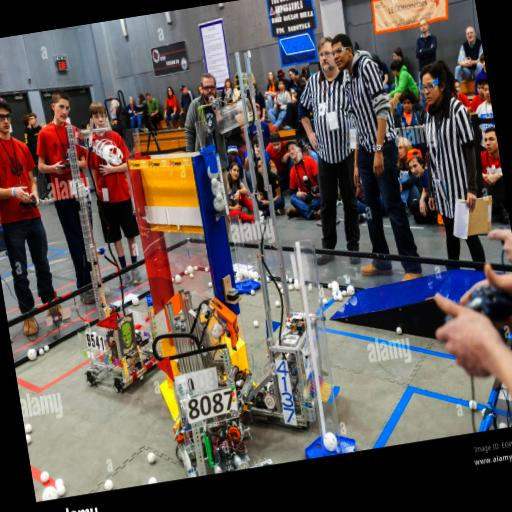robot: (42, 100, 168, 396), (221, 228, 345, 440), (148, 284, 254, 480)
